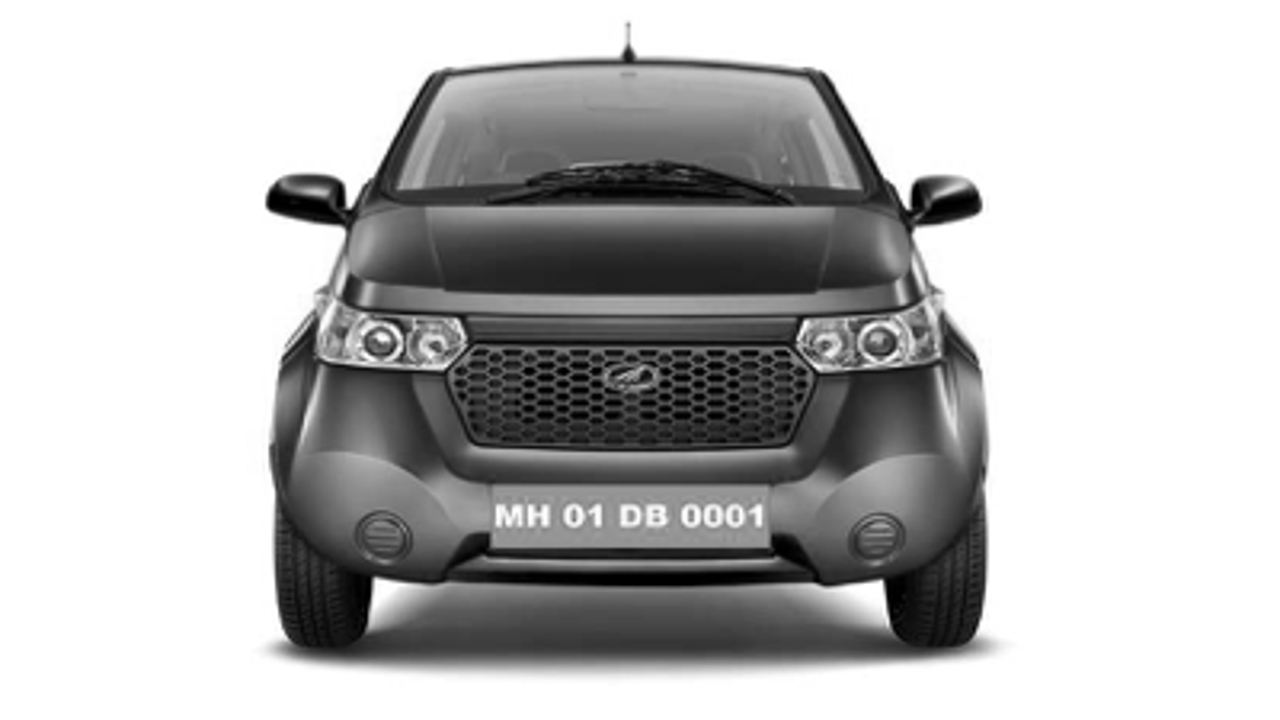license: (485, 475, 776, 555)
